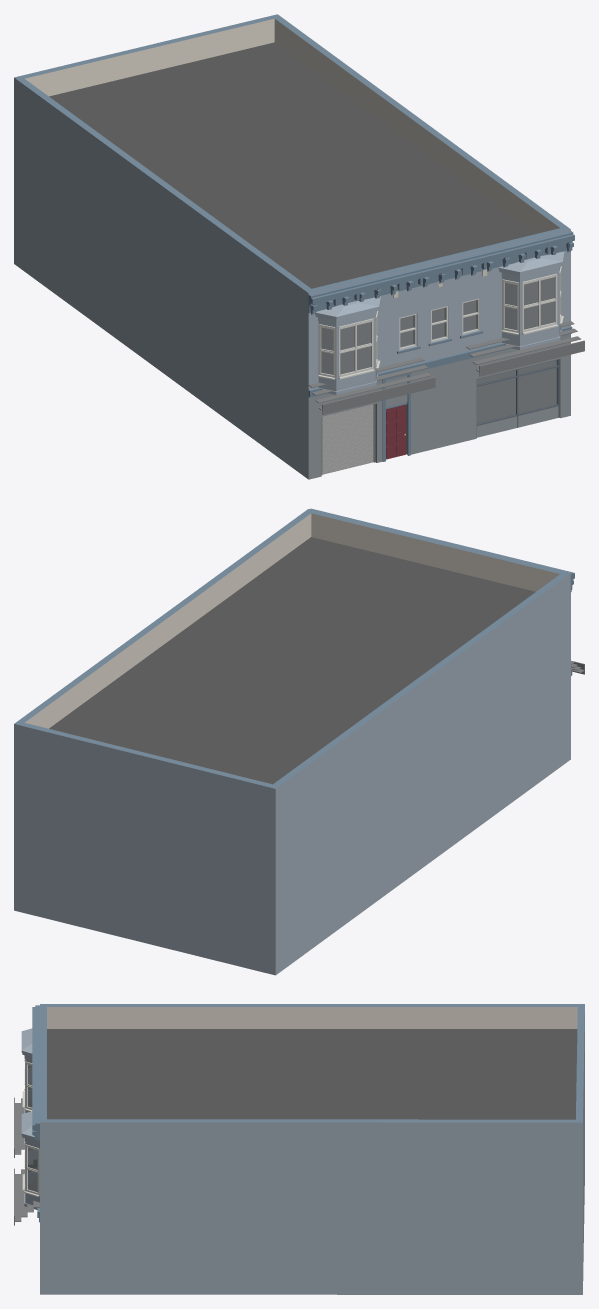
File: exterior.glb
The picture shows the model from 3 angles, top to bottom: view 1: azimuth 30°, elevation 25°; view 2: azimuth 150°, elevation 25°; view 3: azimuth 270°, elevation 25°; orthographic projection. The views are drawn at different scales.
Parts seen in each view (by area): view 1: shell, roof, shadow-proxy, storefront, bay-glazing-hyb, trim, bay-windows-hyb, glazing, awning-valance-1, awning-spans-1, front-dressing-r4, frames; view 2: shell, roof; view 3: shell, roof, bay-glazing-hyb, awning-spans-1, bay-windows-hyb, trim.
Part boxes in pixels (x1=…): shell: x1=14, y1=14, x2=570, y2=479; roof: x1=49, y1=42, x2=535, y2=288; shadow-proxy: x1=321, y1=277, x2=556, y2=423; storefront: x1=321, y1=359, x2=559, y2=474; bay-glazing-hyb: x1=318, y1=266, x2=563, y2=379; trim: x1=308, y1=231, x2=574, y2=397; bay-windows-hyb: x1=315, y1=251, x2=564, y2=394; glazing: x1=386, y1=300, x2=557, y2=424; awning-valance-1: x1=322, y1=340, x2=584, y2=414; awning-spans-1: x1=308, y1=321, x2=583, y2=410; front-dressing-r4: x1=310, y1=242, x2=573, y2=314; frames: x1=399, y1=298, x2=479, y2=350; shell: x1=14, y1=509, x2=570, y2=975; roof: x1=49, y1=537, x2=535, y2=784; shell: x1=40, y1=1004, x2=584, y2=1294; roof: x1=47, y1=1029, x2=577, y2=1119; bay-glazing-hyb: x1=22, y1=1055, x2=39, y2=1196; awning-spans-1: x1=14, y1=1098, x2=39, y2=1221; bay-windows-hyb: x1=21, y1=1028, x2=39, y2=1209; trim: x1=32, y1=1005, x2=39, y2=1217.
Size of the model in its own units: 13.37 by 9.07 by 27.23.
